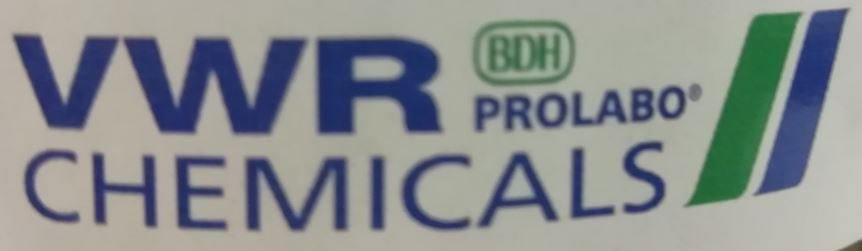VWR: (11, 8, 848, 233)
